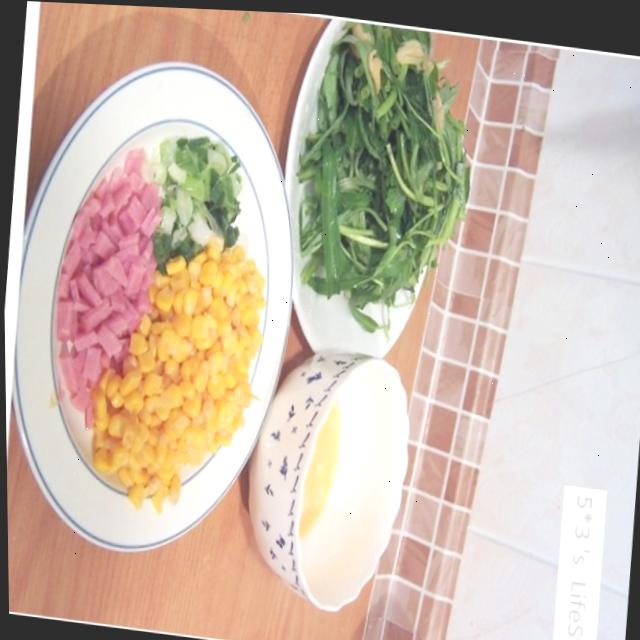蔬菜料理: (244, 9, 516, 368)
